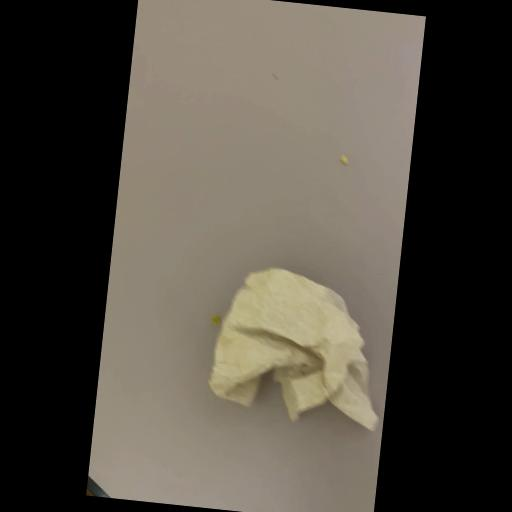napkin: (204, 262, 392, 432)
